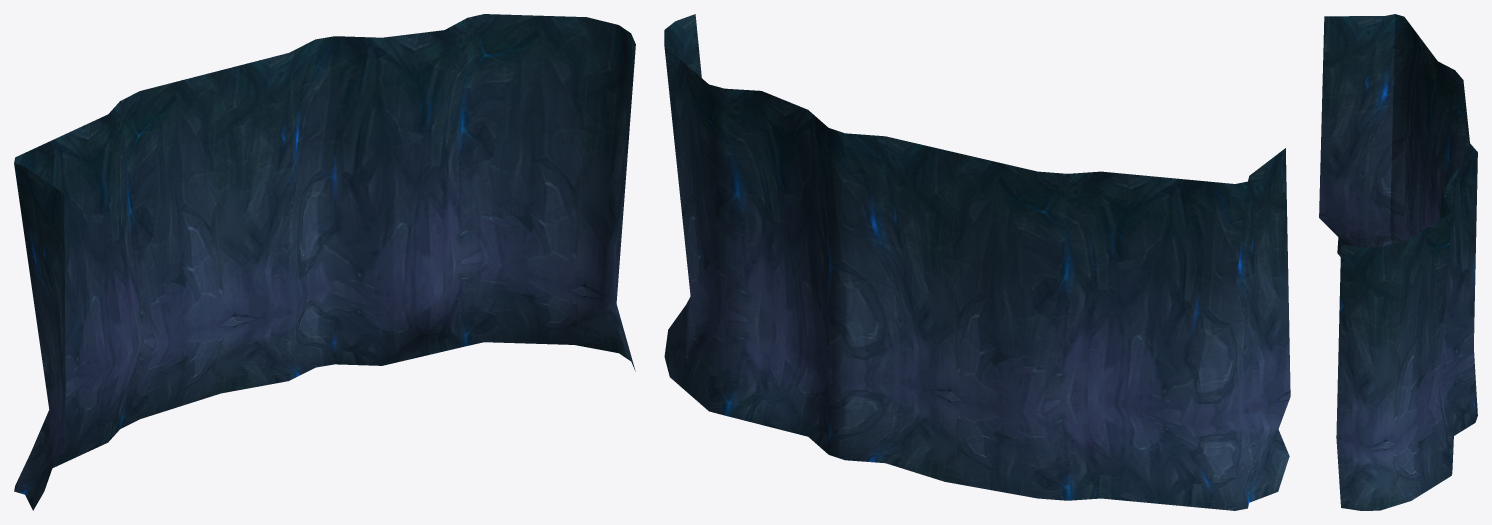
The model's file is h5_qiang_a.FBX.
The picture shows the model from 3 angles, left to right: view 1: azimuth 30°, elevation 25°; view 2: azimuth 150°, elevation 25°; view 3: azimuth 270°, elevation 25°; orthographic projection. The views are drawn at different scales.
Visible parts, largest first — view 1: h5_qiang_a; view 2: h5_qiang_a; view 3: h5_qiang_a.
Boxes of the visible parts, bbox=[...] form: h5_qiang_a: bbox=[14, 14, 635, 510]; h5_qiang_a: bbox=[664, 14, 1290, 510]; h5_qiang_a: bbox=[1319, 14, 1477, 510].
Bounding box in the file's own units: 21.01 × 10.95 × 5.98.
Materials: 1 (1 with a texture image).
